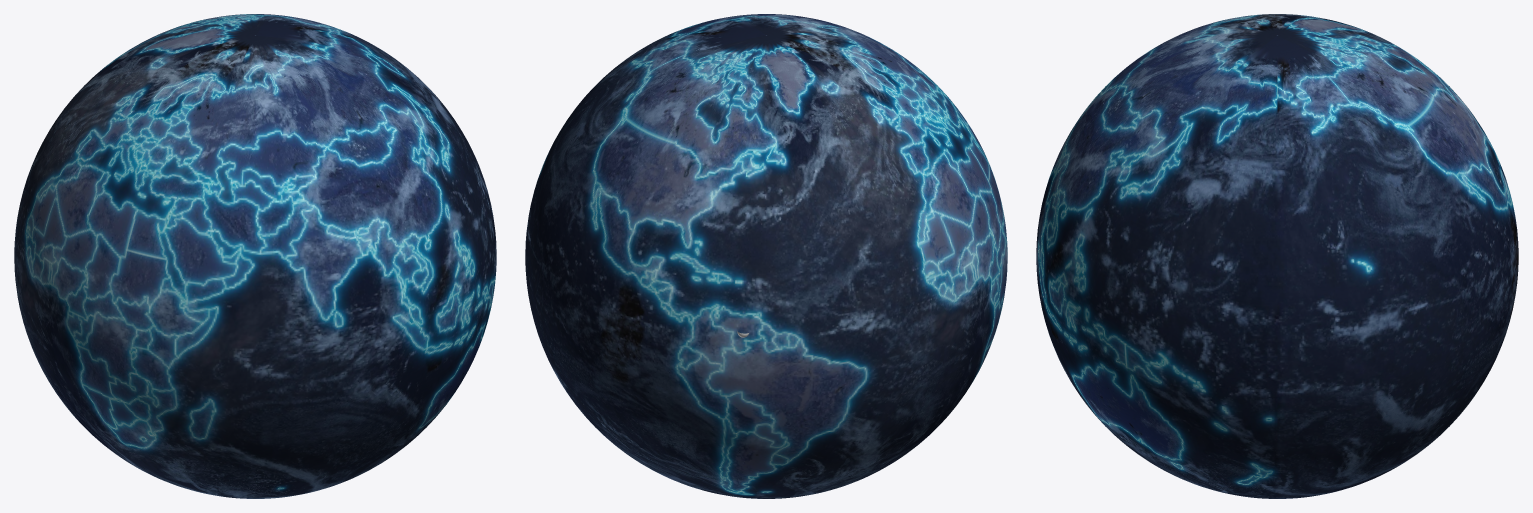
File: Earth_0714.glb
3 renders of one model, left to right at view 1: azimuth 30°, elevation 25°; view 2: azimuth 150°, elevation 25°; view 3: azimuth 270°, elevation 25°, orthographic.
Parts seen in each view (by area): view 1: Globe; view 2: Globe; view 3: Globe.
Boxes of the visible parts, x1,y1,x2,y2 form: Globe: (14,14,496,498); Globe: (525,14,1007,498); Globe: (1036,14,1518,498).
Size of the model in its own units: 1.97 by 2 by 1.97.
1 material, 1 textured.
